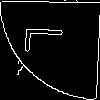L: (25, 24, 72, 54)
